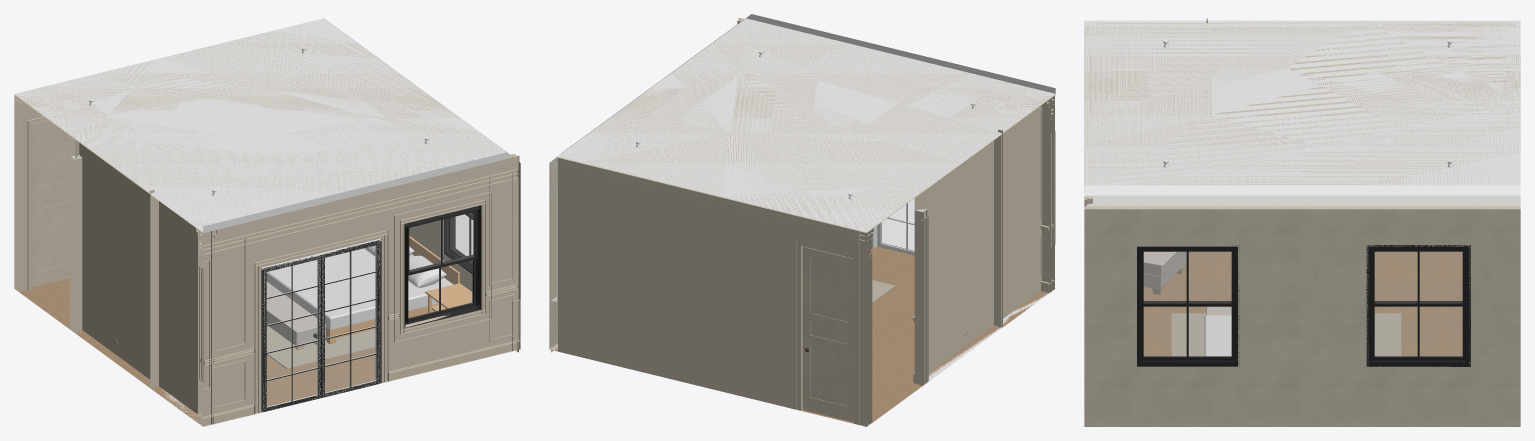
The model's file is primary-bedroom-78bfa5e80498.glb.
3 renders of one model, left to right at view 1: azimuth 30°, elevation 25°; view 2: azimuth 150°, elevation 25°; view 3: azimuth 270°, elevation 25°, orthographic. The views are drawn at different scales.
Visible parts, largest first — view 1: primary-bedroom-9d91b47435c6fb33, primary-bedroom-b0ade14315e4f1c3, primary-bedroom-e8793759323e04f0, primary-bedroom-0987656e6ddb83c1, primary-bedroom-fc6585fecfaf7ec3, primary-bedroom-e1735639a83d20d7, primary-bedroom-1e1f2f1a00880bfa, primary-bedroom-c791a0f218fead78, primary-bedroom-b7a870a0f6b43c8c, primary-bedroom-2575515a05775d9e, primary-bedroom-b5339e4b2b15762b, primary-bedroom-21ac2ed1b4475155 (+17 smaller); view 2: primary-bedroom-9d91b47435c6fb33, primary-bedroom-21ac2ed1b4475155, primary-bedroom-e8793759323e04f0, primary-bedroom-fc6585fecfaf7ec3, primary-bedroom-b7a870a0f6b43c8c, primary-bedroom-c791a0f218fead78, primary-bedroom-2575515a05775d9e, primary-bedroom-b0ade14315e4f1c3, primary-bedroom-9ecc0d558be1c706, primary-bedroom-0987656e6ddb83c1, primary-bedroom-780708765654f3c3, primary-bedroom-30f9d475162e2dd8 (+2 smaller); view 3: primary-bedroom-9d91b47435c6fb33, primary-bedroom-adb6f49a6d2cbec3, primary-bedroom-e8793759323e04f0, primary-bedroom-16d9002bc6318568, primary-bedroom-2575515a05775d9e, primary-bedroom-91f952a1d198b4a4, primary-bedroom-f5a37a5545b9d676, primary-bedroom-791abe15be22adf2, primary-bedroom-b0dbeb16b2b245ed, primary-bedroom-a05c251c2321b5d0, primary-bedroom-1e1f2f1a00880bfa, primary-bedroom-30f9d475162e2dd8.
Part boxes in pixels (x1,y1,x2,y2): primary-bedroom-9d91b47435c6fb33: [14, 18, 511, 232]; primary-bedroom-b0ade14315e4f1c3: [198, 155, 519, 426]; primary-bedroom-e8793759323e04f0: [17, 16, 511, 231]; primary-bedroom-0987656e6ddb83c1: [261, 238, 381, 412]; primary-bedroom-fc6585fecfaf7ec3: [75, 140, 158, 387]; primary-bedroom-e1735639a83d20d7: [404, 205, 481, 328]; primary-bedroom-1e1f2f1a00880bfa: [266, 236, 459, 344]; primary-bedroom-c791a0f218fead78: [151, 194, 211, 425]; primary-bedroom-b7a870a0f6b43c8c: [32, 120, 75, 287]; primary-bedroom-2575515a05775d9e: [15, 278, 518, 426]; primary-bedroom-b5339e4b2b15762b: [202, 169, 518, 254]; primary-bedroom-21ac2ed1b4475155: [14, 95, 43, 291]; primary-bedroom-9d91b47435c6fb33: [557, 18, 1055, 232]; primary-bedroom-21ac2ed1b4475155: [558, 157, 871, 426]; primary-bedroom-e8793759323e04f0: [561, 14, 1055, 229]; primary-bedroom-fc6585fecfaf7ec3: [914, 134, 1002, 382]; primary-bedroom-b7a870a0f6b43c8c: [802, 246, 853, 422]; primary-bedroom-c791a0f218fead78: [994, 106, 1052, 327]; primary-bedroom-2575515a05775d9e: [551, 246, 1053, 426]; primary-bedroom-b0ade14315e4f1c3: [738, 17, 1054, 292]; primary-bedroom-9ecc0d558be1c706: [914, 209, 927, 384]; primary-bedroom-0987656e6ddb83c1: [872, 199, 914, 255]; primary-bedroom-780708765654f3c3: [799, 244, 854, 423]; primary-bedroom-30f9d475162e2dd8: [550, 158, 556, 300]; primary-bedroom-9d91b47435c6fb33: [1084, 20, 1520, 195]; primary-bedroom-adb6f49a6d2cbec3: [1084, 207, 1520, 367]; primary-bedroom-e8793759323e04f0: [1084, 21, 1520, 194]; primary-bedroom-16d9002bc6318568: [1086, 367, 1520, 424]; primary-bedroom-2575515a05775d9e: [1084, 251, 1520, 426]; primary-bedroom-91f952a1d198b4a4: [1366, 245, 1470, 366]; primary-bedroom-f5a37a5545b9d676: [1137, 245, 1239, 366]; primary-bedroom-791abe15be22adf2: [1084, 195, 1520, 205]; primary-bedroom-b0dbeb16b2b245ed: [1171, 313, 1401, 356]; primary-bedroom-a05c251c2321b5d0: [1143, 251, 1186, 294]; primary-bedroom-1e1f2f1a00880bfa: [1204, 315, 1231, 356]; primary-bedroom-30f9d475162e2dd8: [1086, 205, 1520, 206].
Size of the model in its own units: 4.97 by 3.04 by 5.11.
Materials: 29 (5 with a texture image).
